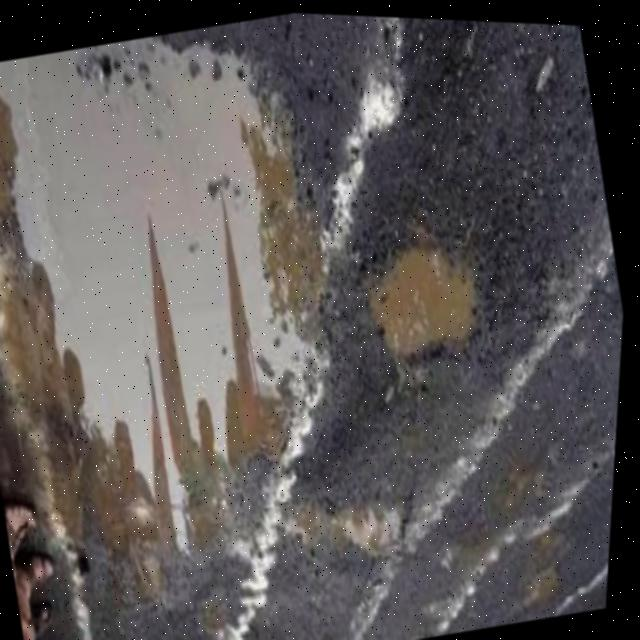Pothole: (0, 1, 398, 624), (331, 222, 520, 416), (243, 440, 416, 577), (443, 390, 567, 520), (490, 510, 585, 622)
